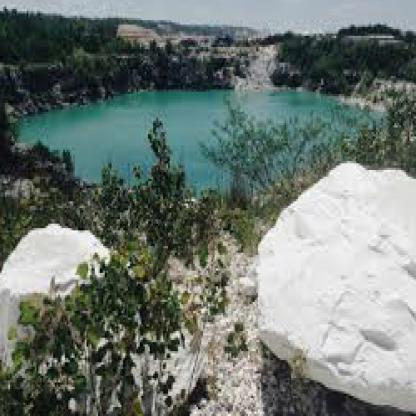Metamorphic_Marble: (255, 156, 414, 414)
